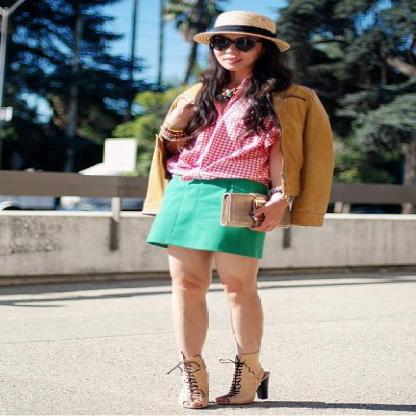bag: (223, 191, 265, 231)
hat: (212, 0, 289, 51)
jacket: (120, 83, 338, 226)
shirt: (159, 78, 292, 181)
shoe: (179, 353, 269, 409)
skirt: (147, 176, 274, 258)
sunglass: (209, 26, 275, 53)
